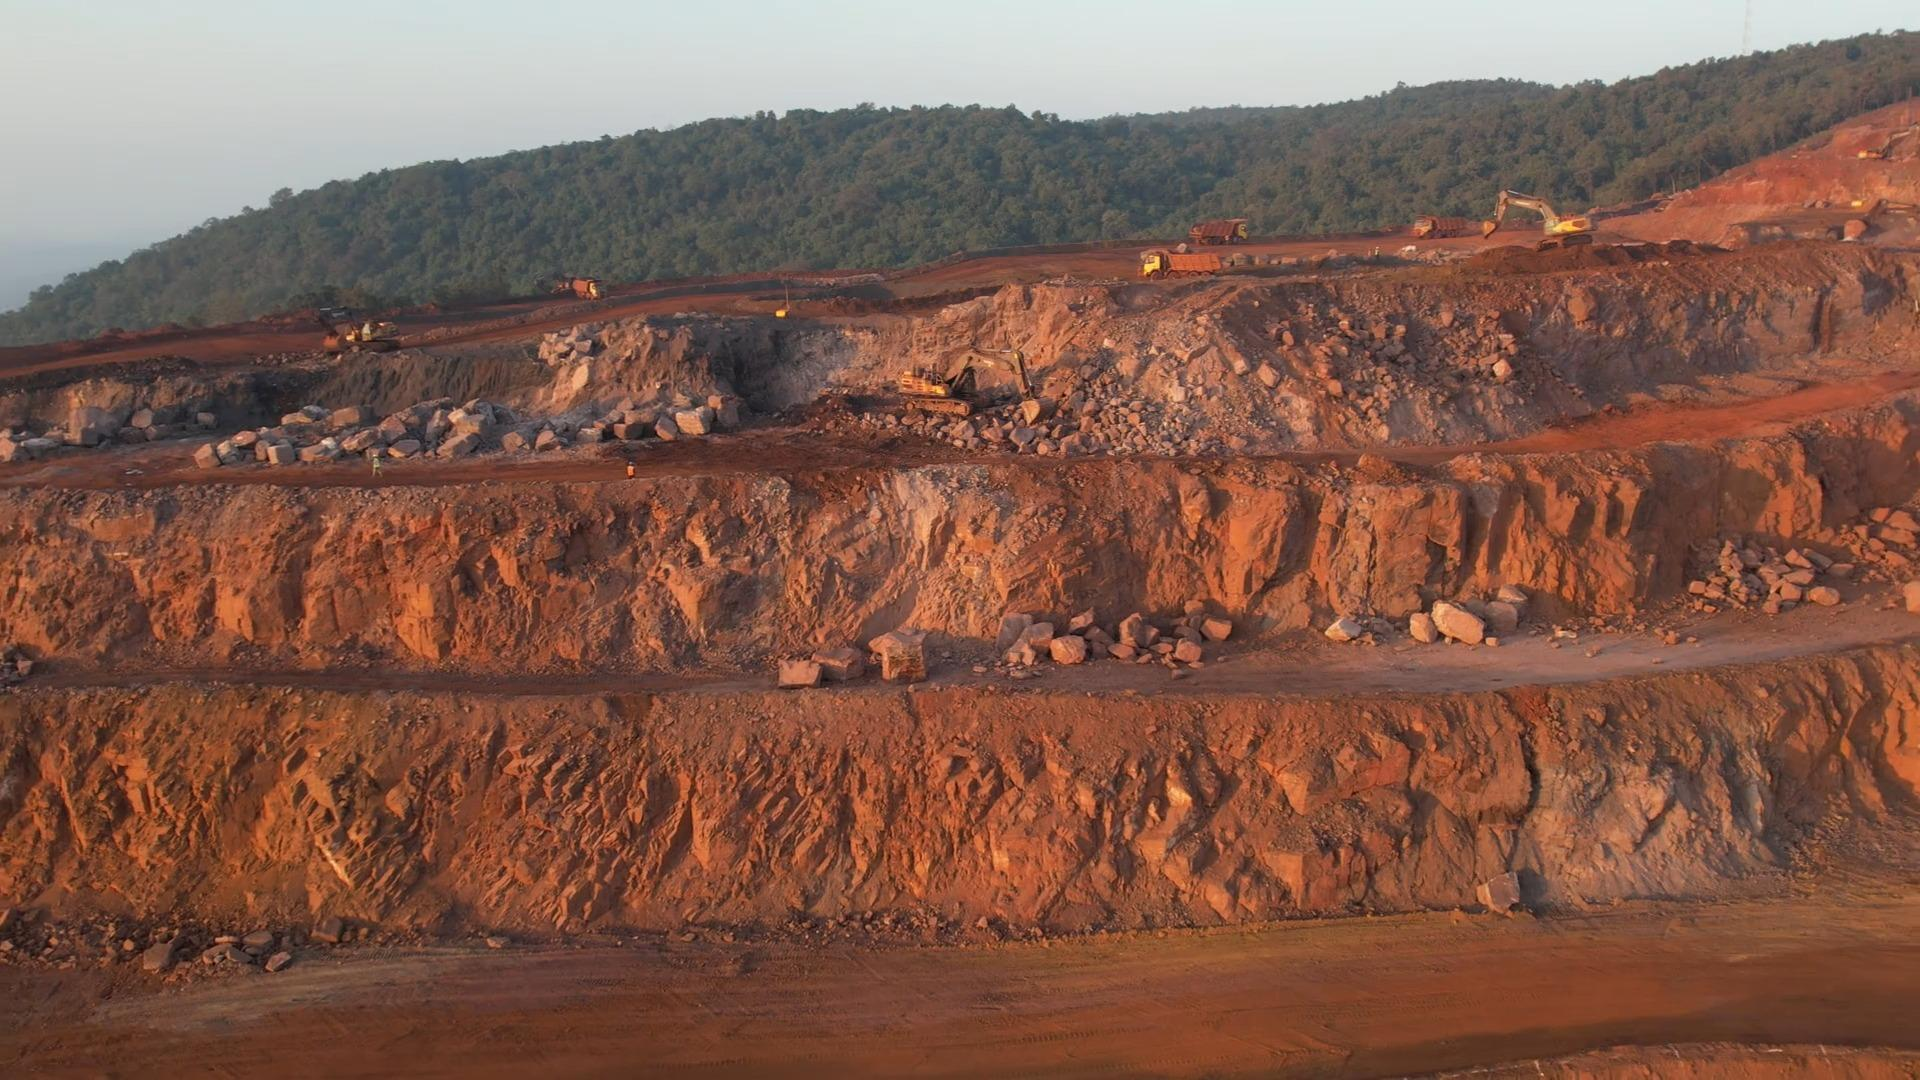excavator: (898, 352, 1050, 415), (1491, 190, 1597, 250), (317, 306, 404, 350)
